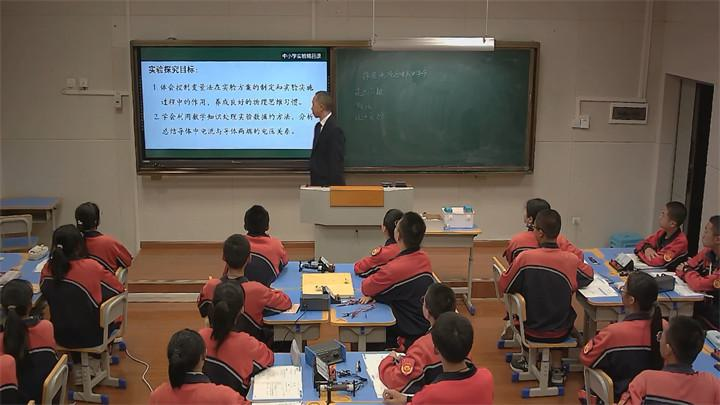listen: (207, 275, 261, 363), (656, 304, 708, 394), (431, 314, 485, 399), (611, 260, 656, 354), (38, 215, 86, 303), (645, 188, 686, 276), (391, 209, 433, 285), (241, 201, 287, 269), (532, 208, 568, 293), (77, 193, 121, 261), (1, 278, 40, 354), (159, 330, 206, 393), (695, 208, 719, 276)
